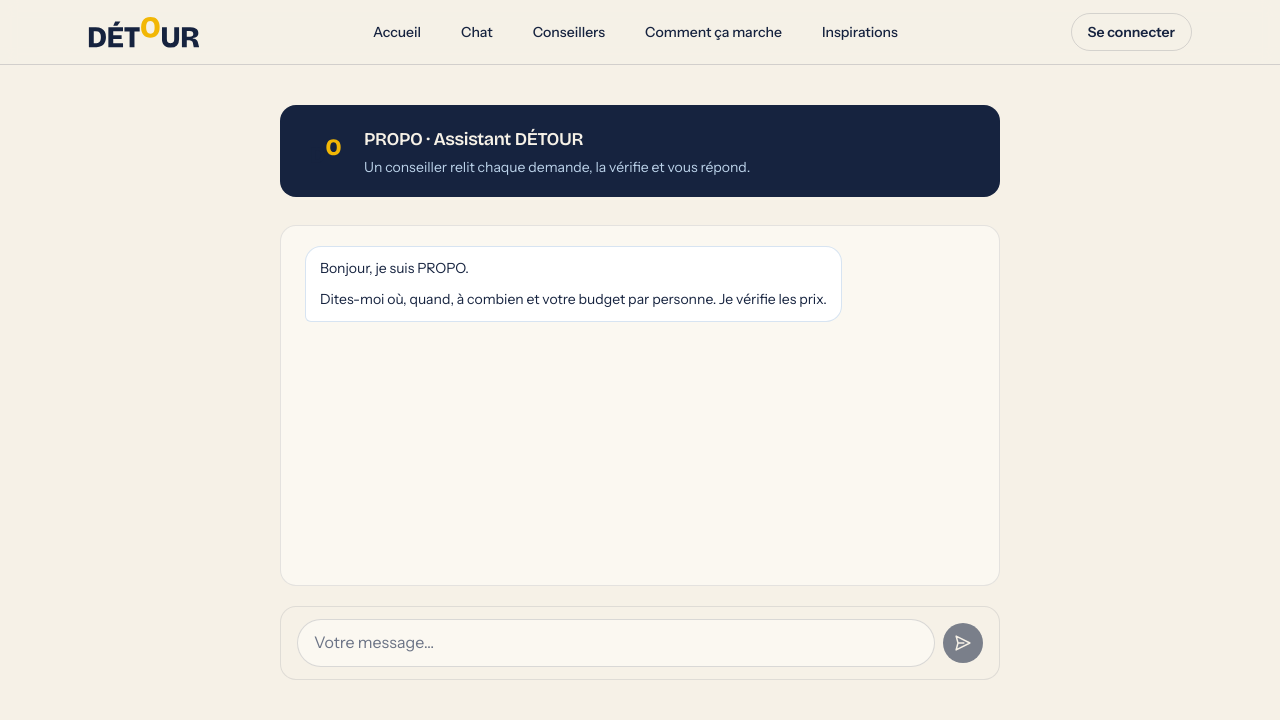
Test: ChatPage — dedicated window › sends a message end to end and shows the agent reply
This screenshot has width=1280, height=720.
Type "Train pour Nantes" into the field labelled "message". click: (616, 643)
box: [297,619,935,667]
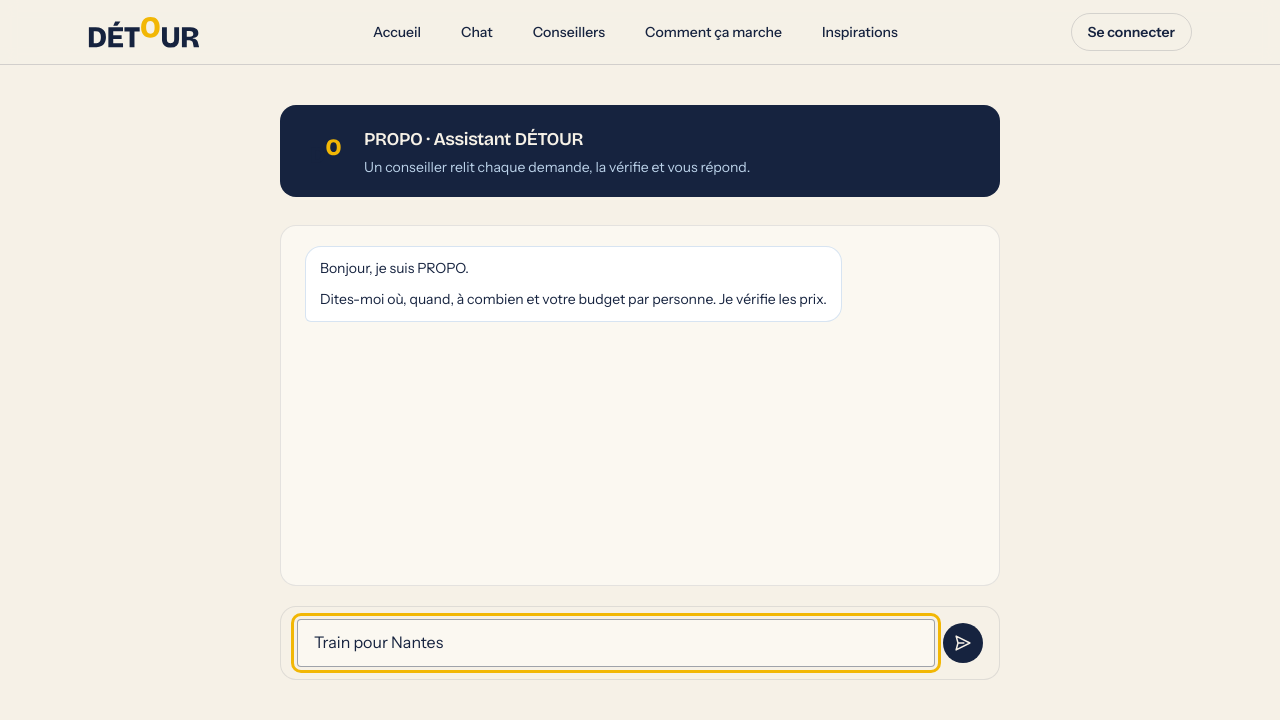
Click the button named "envoyer". click: click(963, 643)
box: [943,623,983,663]
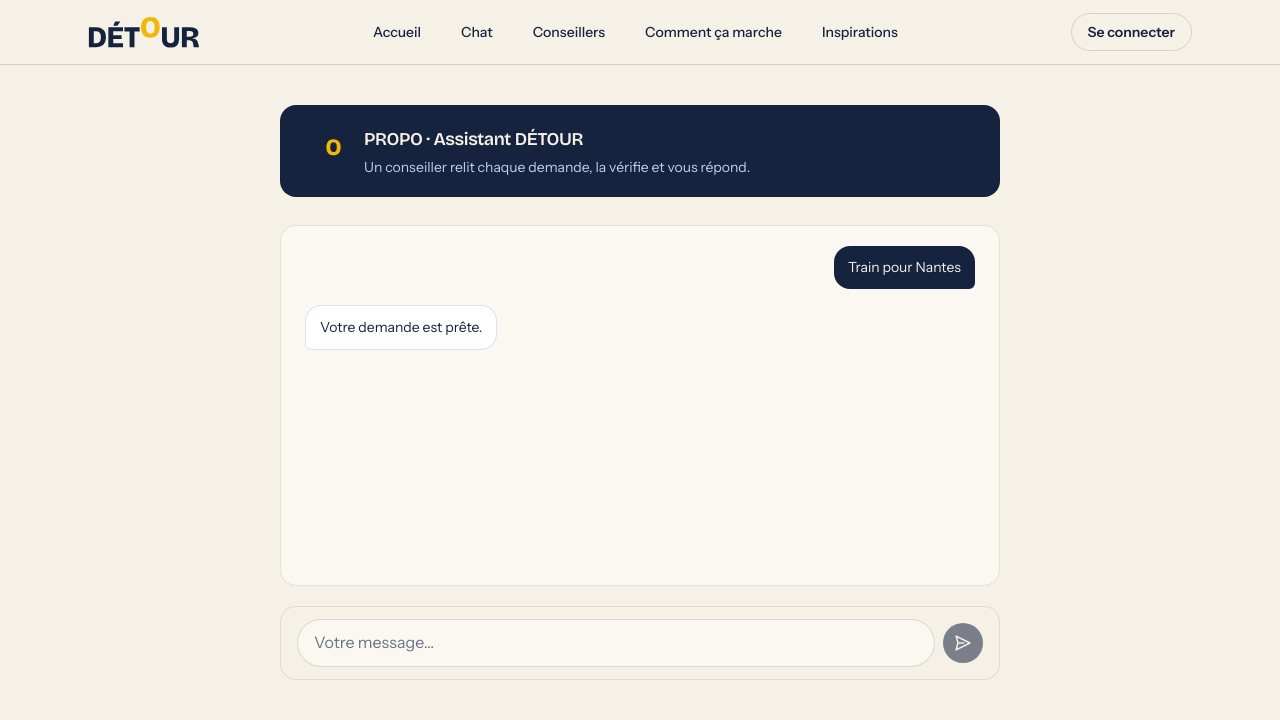
Check: the text "Votre demande est prête." is shown, box [320,316,482,339]
Check: the text "Train pour Nantes" is shown, box [848,256,961,279]
